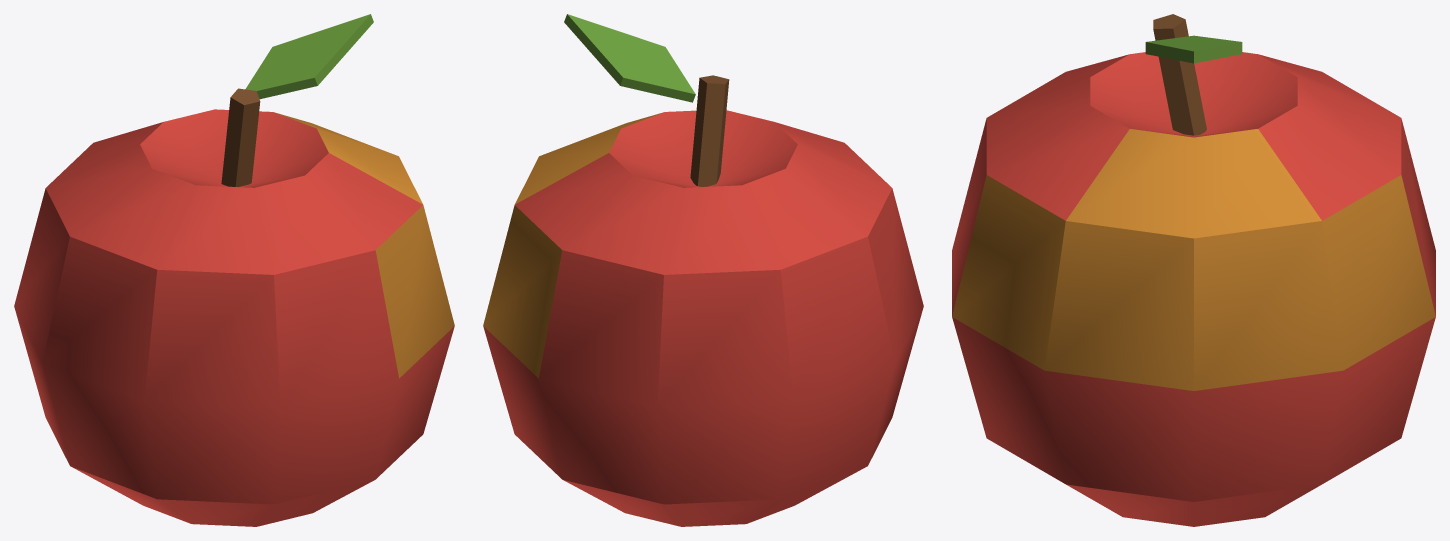
The model's file is SM_Apple.glb.
3 renders of one model, left to right at view 1: azimuth 30°, elevation 25°; view 2: azimuth 150°, elevation 25°; view 3: azimuth 270°, elevation 25°, orthographic. The views are drawn at different scales.
Parts seen in each view (by area): view 1: SM_Apple; view 2: SM_Apple; view 3: SM_Apple.
Boxes of the visible parts, x1,y1,x2,y2 form: SM_Apple: (14,14,454,526); SM_Apple: (483,14,923,526); SM_Apple: (952,14,1435,526).
Bounding box in the file's own units: 0.084 × 0.0912 × 0.0799.
Materials: 1 (1 with a texture image).
